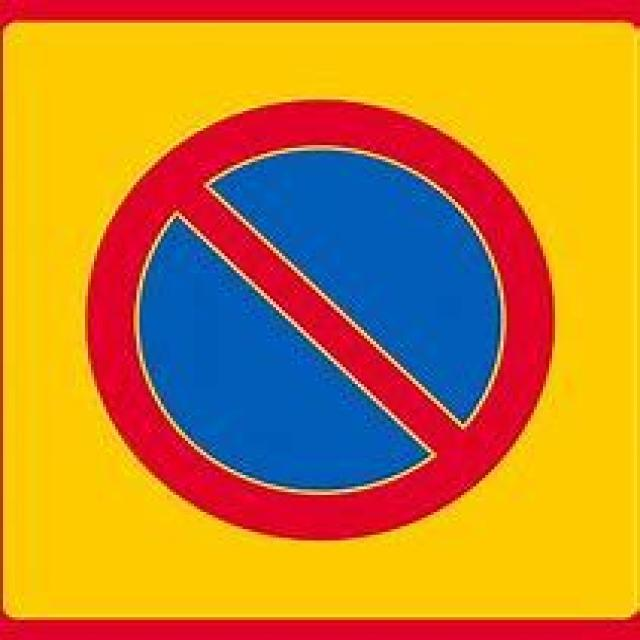do_not_enter: (85, 100, 555, 534)
